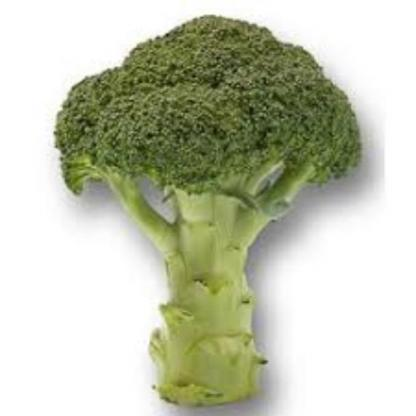broccoli: (50, 10, 376, 414)
